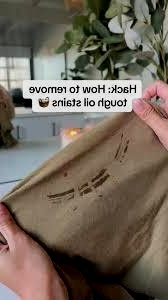oil: (81, 166, 109, 196), (45, 182, 79, 205), (110, 134, 132, 164)
